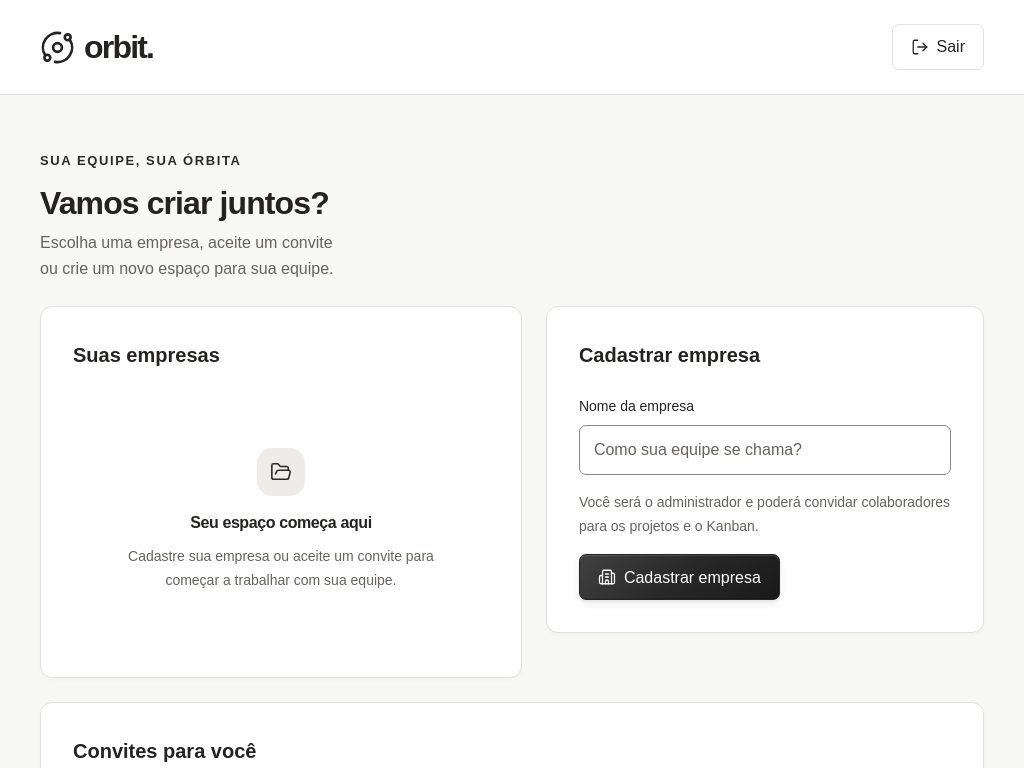
it: Entrada na empresa › preserva o nome da empresa quando o cadastro falha
This screenshot has width=1024, height=768.
Type "Meu estúdio" into the field labelled "Nome da empresa". click: point(765, 450)
box: 579,425 -> 951,475
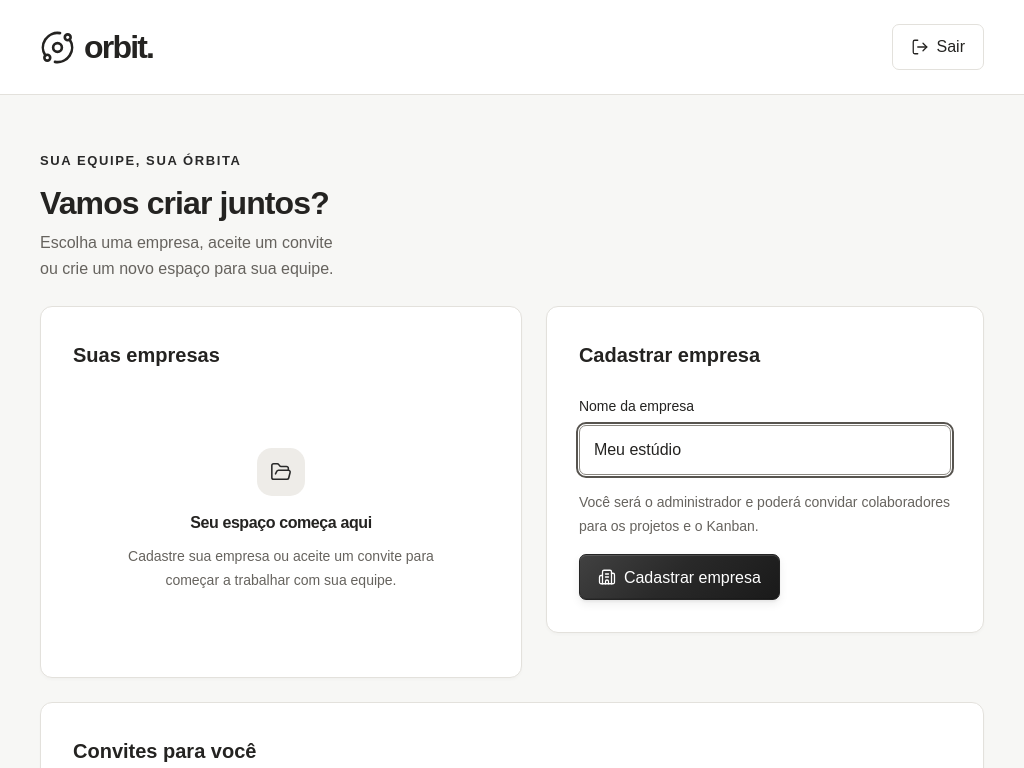
Click the button "Cadastrar empresa". click: point(679, 577)
box: 579,554 -> 780,600
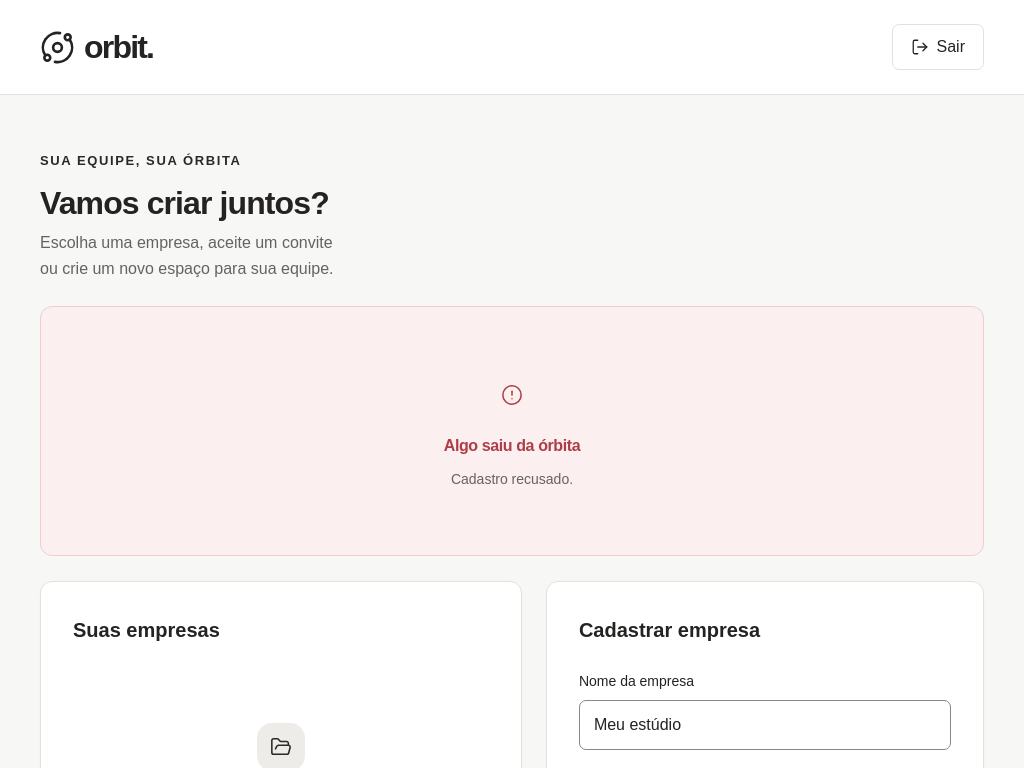
Check: the message shows "Cadastro recusado.", box 451,471 -> 573,487
